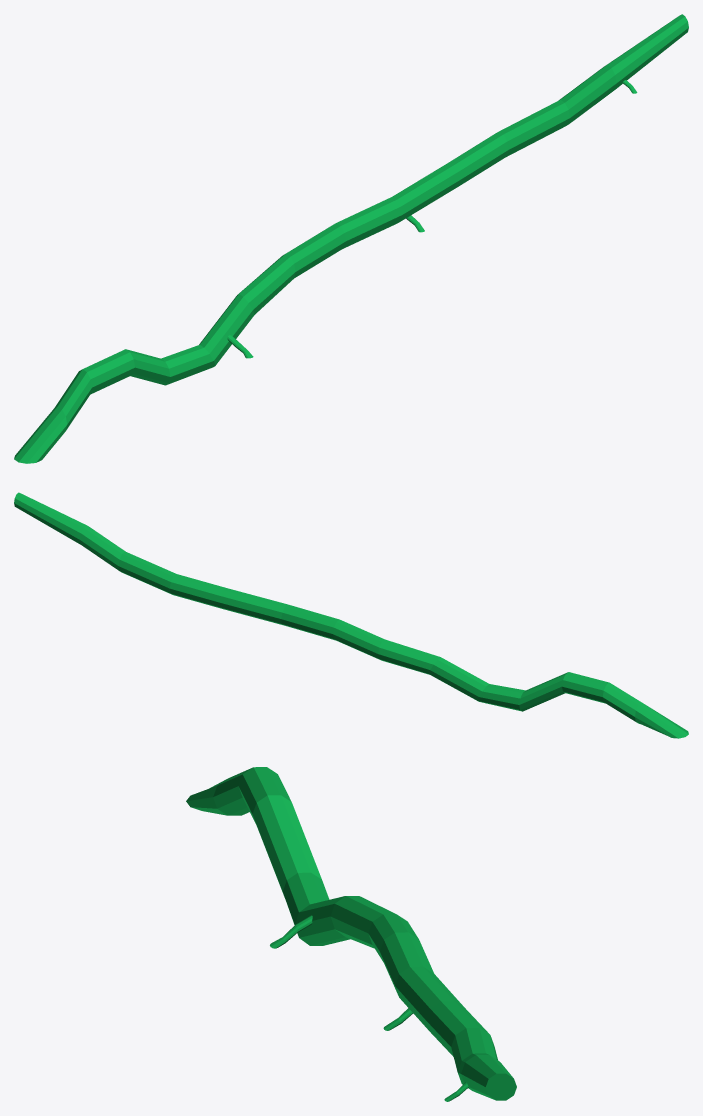
File: Tomato tree.fbx
3 renders of one model, top to bottom at view 1: azimuth 30°, elevation 25°; view 2: azimuth 150°, elevation 25°; view 3: azimuth 270°, elevation 25°, orthographic. The views are drawn at different scales.
Visible parts, largest first — view 1: Tomato Tree; view 2: Tomato Tree; view 3: Tomato Tree.
Part boxes in pixels (x1=…): Tomato Tree: x1=14, y1=14, x2=688, y2=463; Tomato Tree: x1=14, y1=492, x2=688, y2=738; Tomato Tree: x1=186, y1=767, x2=516, y2=1101.
Bounding box in the file's own units: 37.42 × 9.03 × 8.99.
